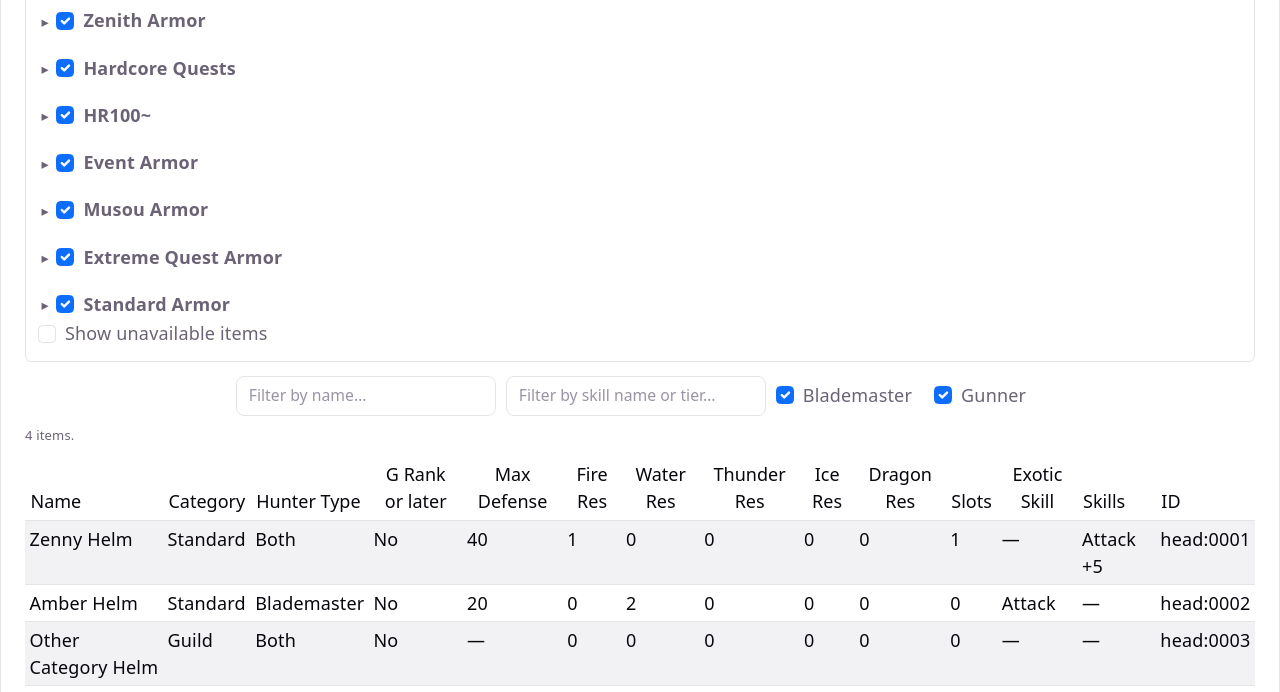
Test: CategoryTablePage › the "all items" view (categoryKey: null, docs/feedback.md Round 3 #5) › hides unavailable items by default, showing them once the checkbox is checked
(page scrolled)
Expected: the text "Unobtainable Helm" is not shown
Click the checkbox labelled "Show unavailable items" at (47, 334), box [38,325,56,343]
(page scrolled)
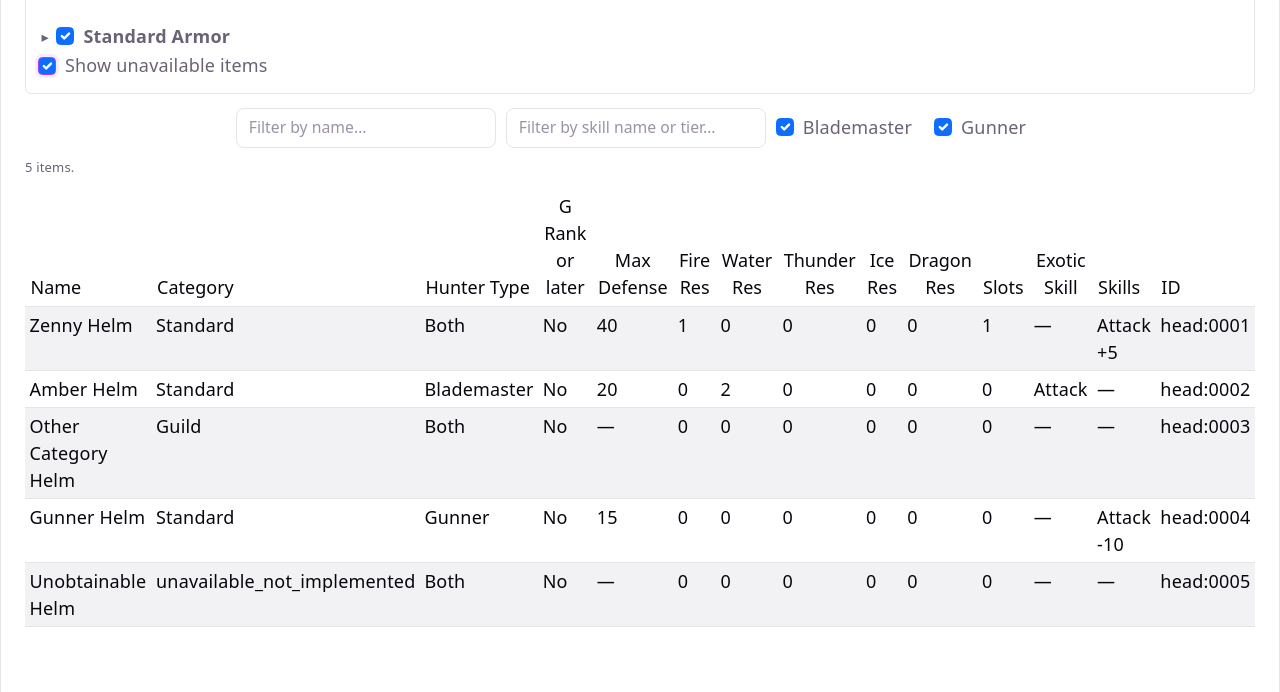
Expected: the text "Unobtainable Helm" is shown, [25,563,152,627]
